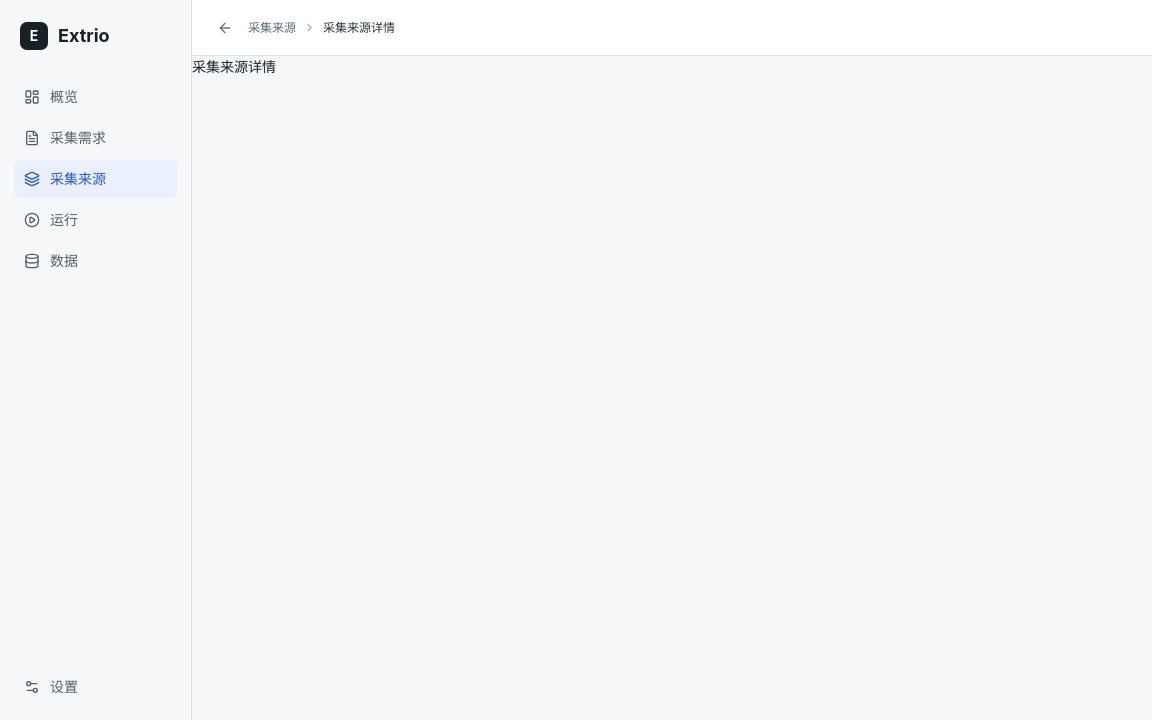
Test: AppShell navigation › returns from a detail route to the workspace home through the brand
The width and height of the screenshot is (1152, 720).
Check: the 2nd text "采集来源详情" is shown, box 192,58 -> 276,75
Check: the element named "当前页面" shows "采集来源", box 248,18 -> 296,37
Step 1. Click the link with aria-label "Extrio 首页" → coordinates (65, 36), box 20,22 -> 110,50
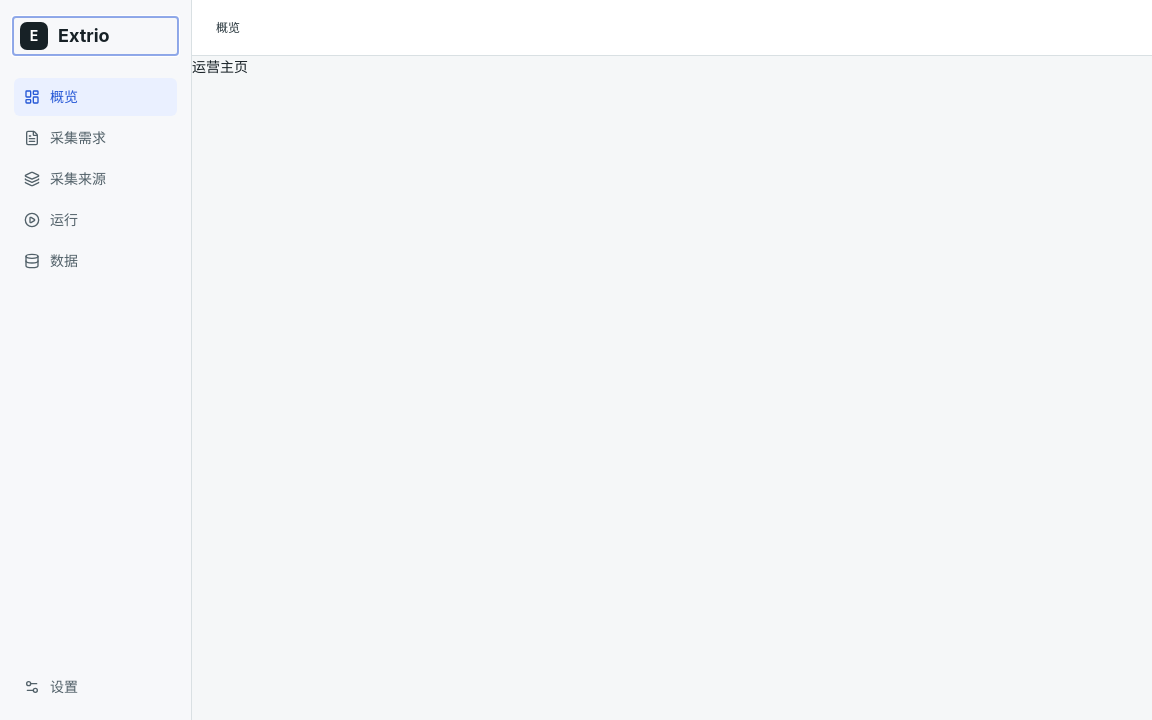
Check: the text "运营主页" is shown, box 192,58 -> 248,75
